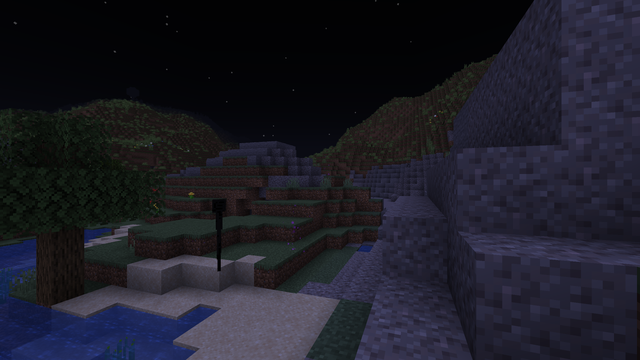endermens: (207, 196, 229, 270)
